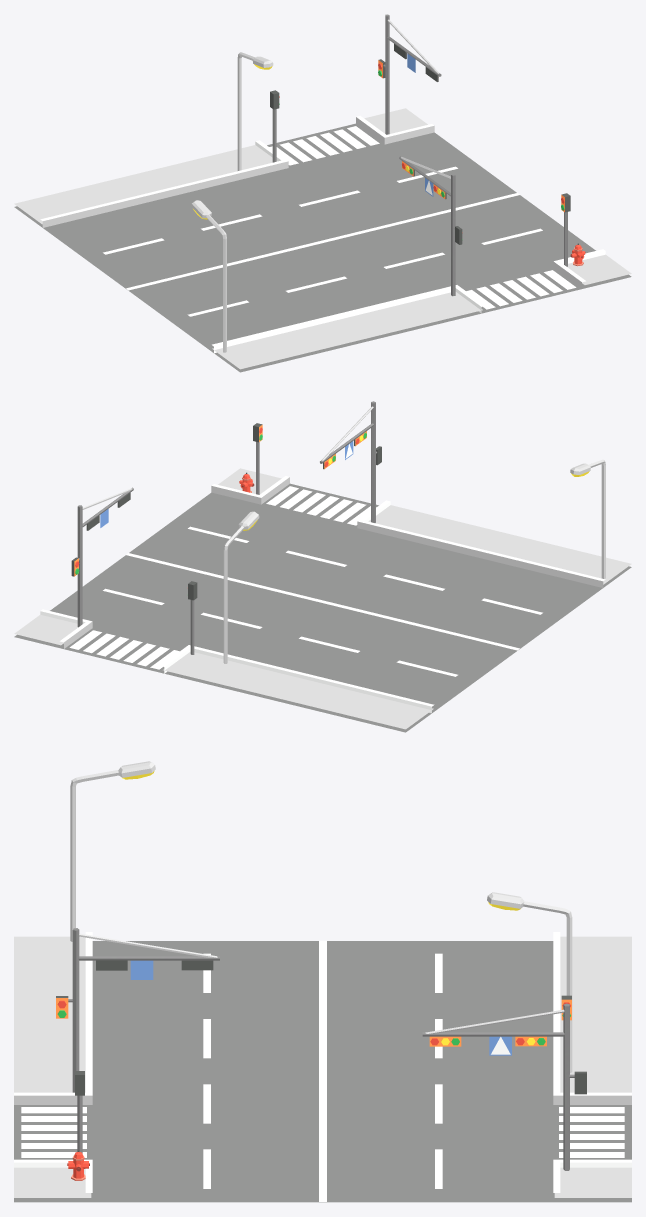
The model's file is road_tile_2x2_1.glb.
The picture shows the model from 3 angles, top to bottom: view 1: azimuth 30°, elevation 25°; view 2: azimuth 150°, elevation 25°; view 3: azimuth 270°, elevation 25°; orthographic projection. The views are drawn at different scales.
Parts seen in each view (by area): view 1: road_tile_2x2_1(Clone); view 2: road_tile_2x2_1(Clone); view 3: road_tile_2x2_1(Clone).
Part boxes in pixels (x1=…): road_tile_2x2_1(Clone): x1=14, y1=14, x2=631, y2=372; road_tile_2x2_1(Clone): x1=14, y1=401, x2=631, y2=732; road_tile_2x2_1(Clone): x1=14, y1=761, x2=631, y2=1202.
Bounding box in the file's own units: 16 × 5.25 × 16.
Materials: 1 (1 with a texture image).
